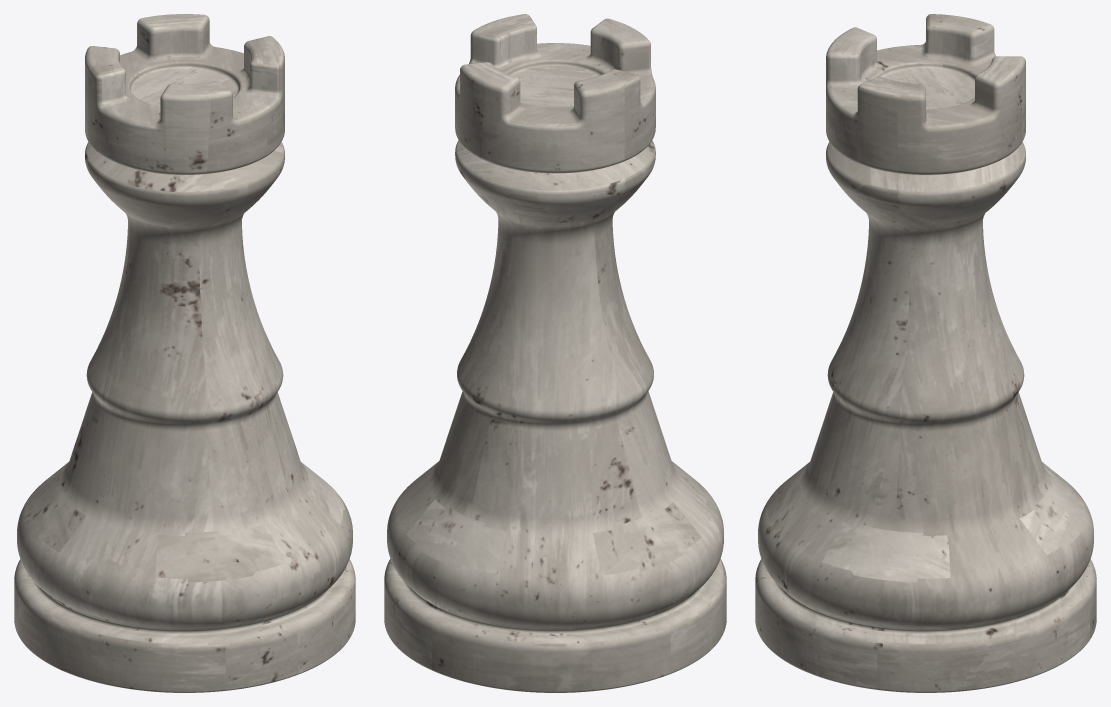
Rendered from wrook.glb.
The picture shows the model from 3 angles, left to right: view 1: azimuth 30°, elevation 25°; view 2: azimuth 150°, elevation 25°; view 3: azimuth 270°, elevation 25°; orthographic projection.
Visible parts, largest first — view 1: rook.001; view 2: rook.001; view 3: rook.001.
Part boxes in pixels (box(x1,y1,x2,y2)): rook.001: box(14, 14, 355, 692); rook.001: box(384, 14, 726, 692); rook.001: box(755, 14, 1096, 692).
Bounding box in the file's own units: 0.03 × 0.055 × 0.03.
Materials: 1 (1 with a texture image).
